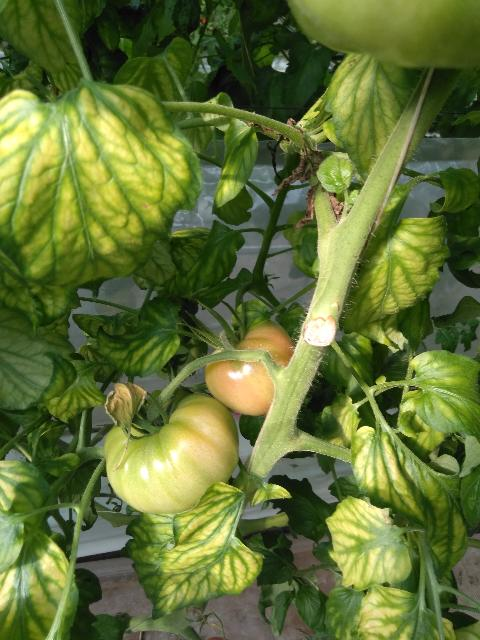b_green: (104, 392, 240, 515), (287, 0, 480, 68)
b_half_ripened: (206, 320, 297, 416)
